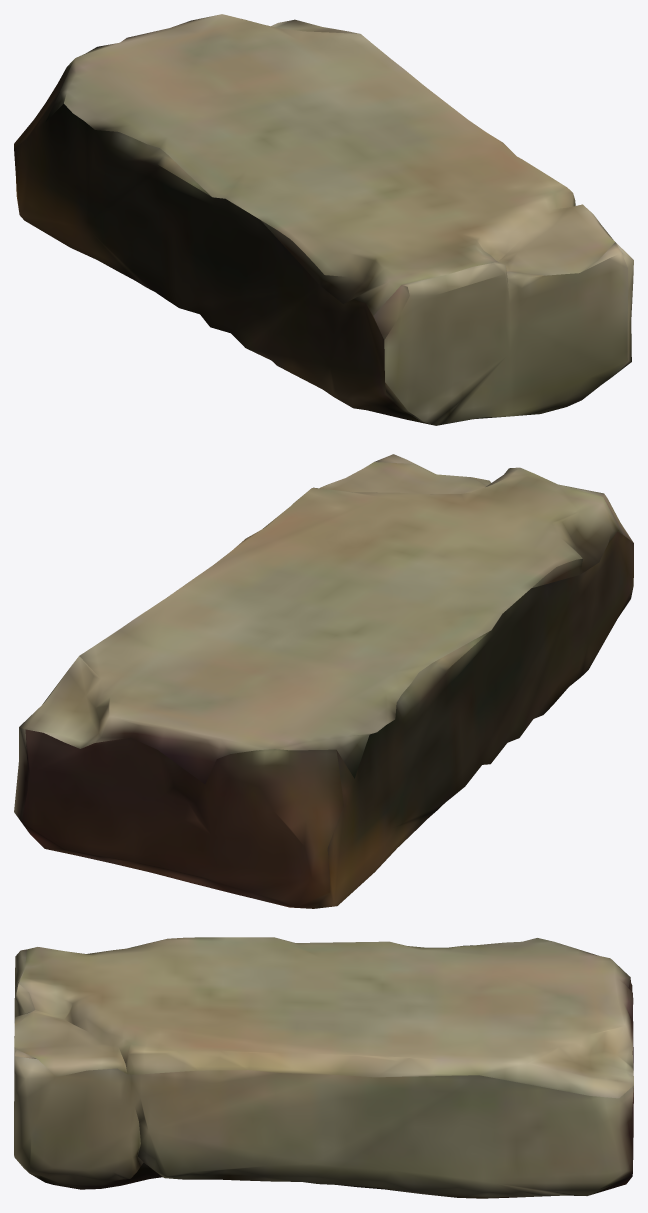
Rendered from RockPack003.fbx.
3 renders of one model, top to bottom at view 1: azimuth 30°, elevation 25°; view 2: azimuth 150°, elevation 25°; view 3: azimuth 270°, elevation 25°, orthographic. The views are drawn at different scales.
Visible parts, largest first — view 1: RockPack003; view 2: RockPack003; view 3: RockPack003.
Part boxes in pixels (<box>): RockPack003: <box>14,14,633,425</box>; RockPack003: <box>14,454,633,908</box>; RockPack003: <box>14,937,633,1198</box>.
Bounding box in the file's own units: 98.1 × 52.55 × 192.
Materials: 1 (1 with a texture image).
